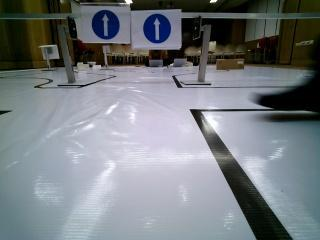straight: (129, 9, 180, 49), (81, 3, 131, 43)
